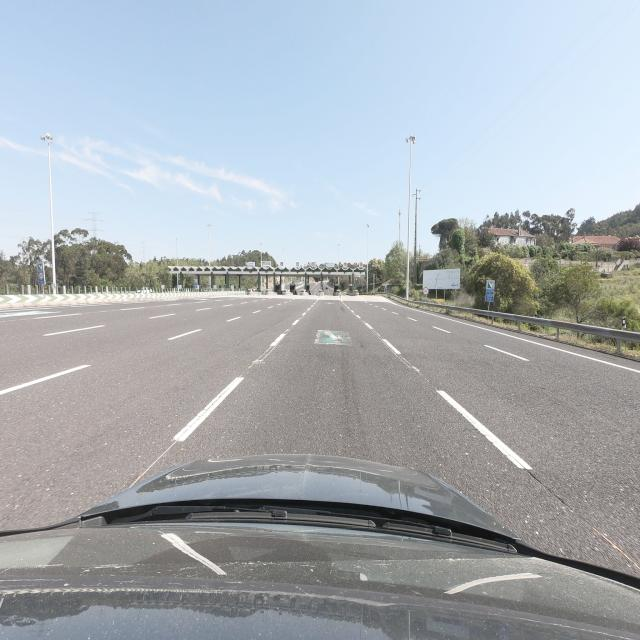car: (614, 235, 640, 253)
